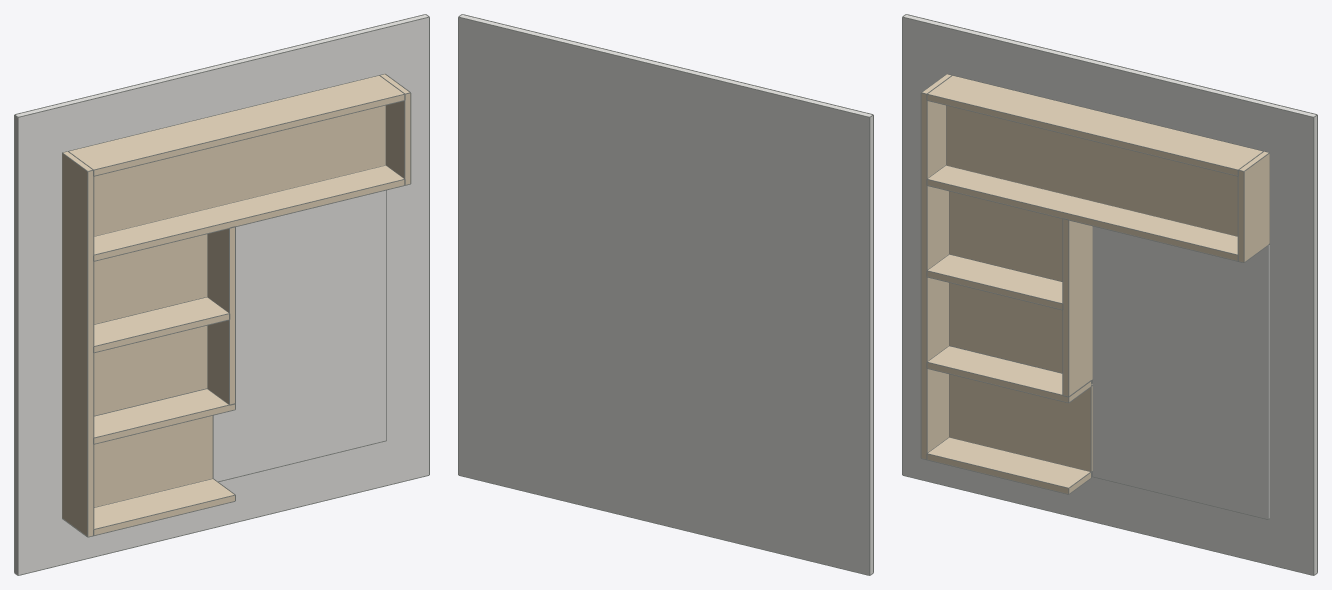
File: modell.glb
3 views of the same model, side by side, from view 1: azimuth 30°, elevation 25°; view 2: azimuth 150°, elevation 25°; view 3: azimuth 330°, elevation 25° (orthographic).
Bounding box in the file's own units: 1398 × 1488 × 173.
